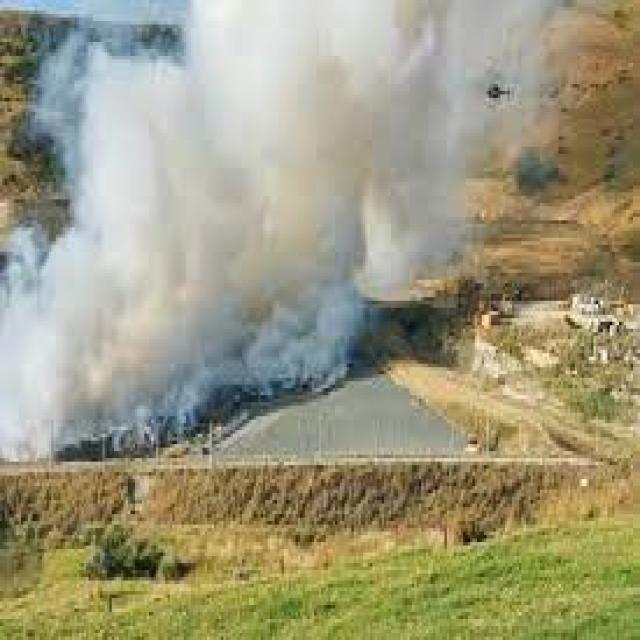Smoke: (7, 0, 496, 406)
